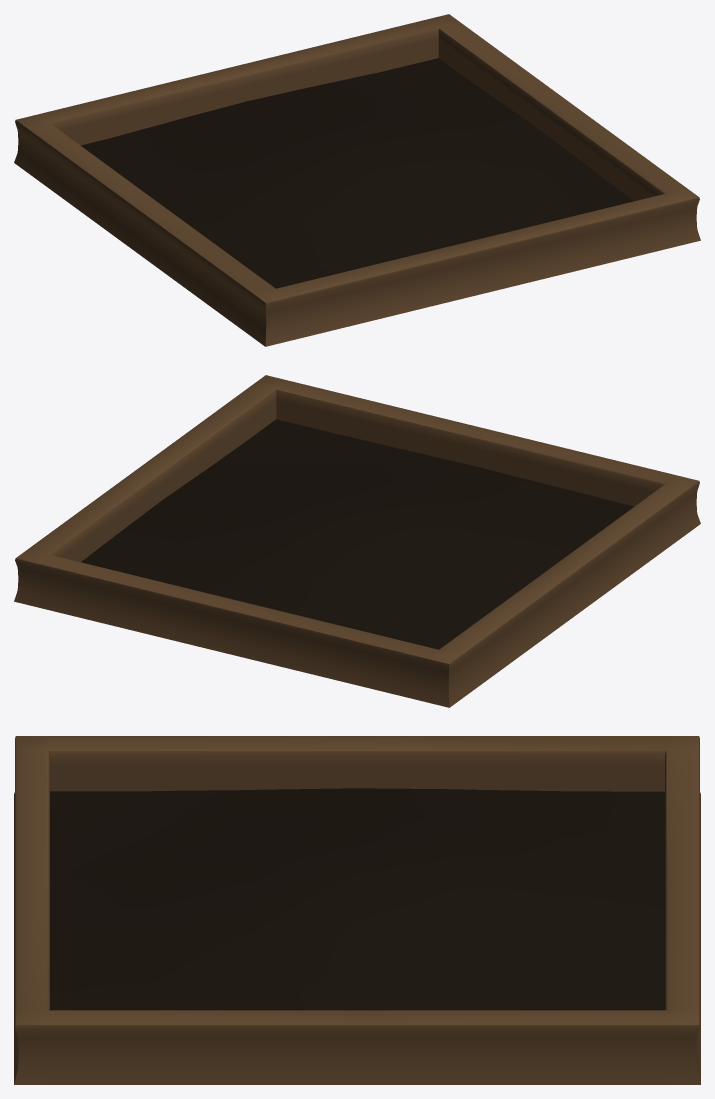
The model's file is PlantBox.glb.
3 views of the same model, one above another, from view 1: azimuth 30°, elevation 25°; view 2: azimuth 150°, elevation 25°; view 3: azimuth 270°, elevation 25° (orthographic). The views are drawn at different scales.
Visible parts, largest first — view 1: WoodPlanks; view 2: WoodPlanks; view 3: WoodPlanks.
Boxes of the visible parts, bbox=[...] form: WoodPlanks: bbox=[14, 14, 700, 346]; WoodPlanks: bbox=[14, 375, 700, 707]; WoodPlanks: bbox=[14, 736, 700, 1084].
Bounding box in the file's own units: 78.76 × 7.96 × 78.76.
